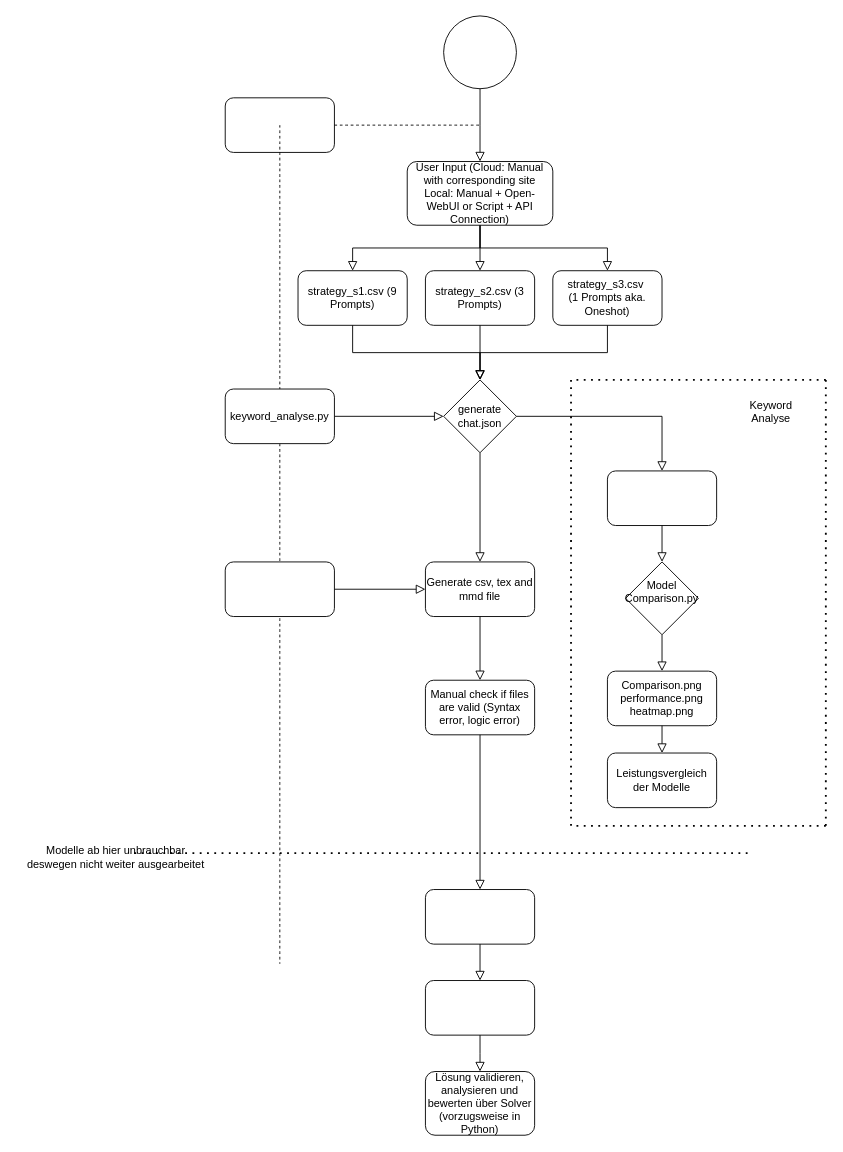
Some shapes in this 843 by 1152 pixel diagram are drawn without their labels. Each missing label, with the centre of its shape:
Domäne aus .csv erstellen: the point at 480,916
generate summary.csv: the point at 662,498
Github Actions (push triggered): the point at 279,124
json_to_files.py (generate csv, tex, mmd files out of chat.json): the point at 279,589
Problemdateien erstellen: the point at 480,1007
Start: the point at 479,52
